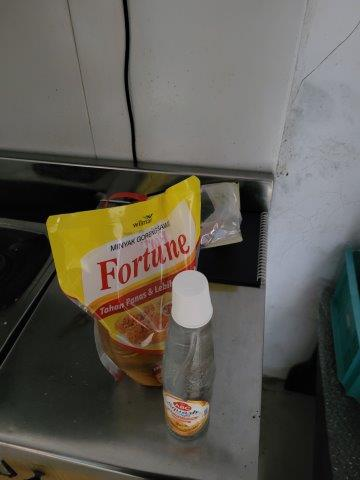botolkaca: (161, 272, 216, 442)
